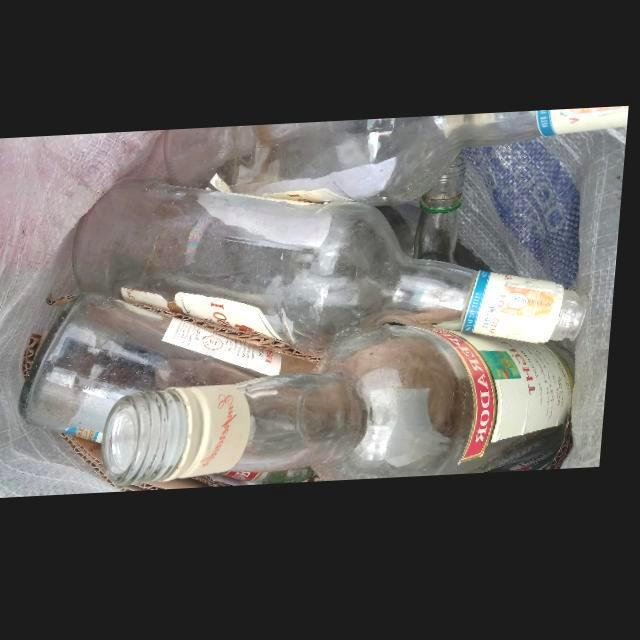cardboard: (68, 436, 270, 494), (140, 307, 332, 366)
glass_bottle: (78, 181, 570, 355), (110, 329, 583, 488), (167, 114, 631, 211), (33, 300, 324, 446), (418, 160, 469, 269)
